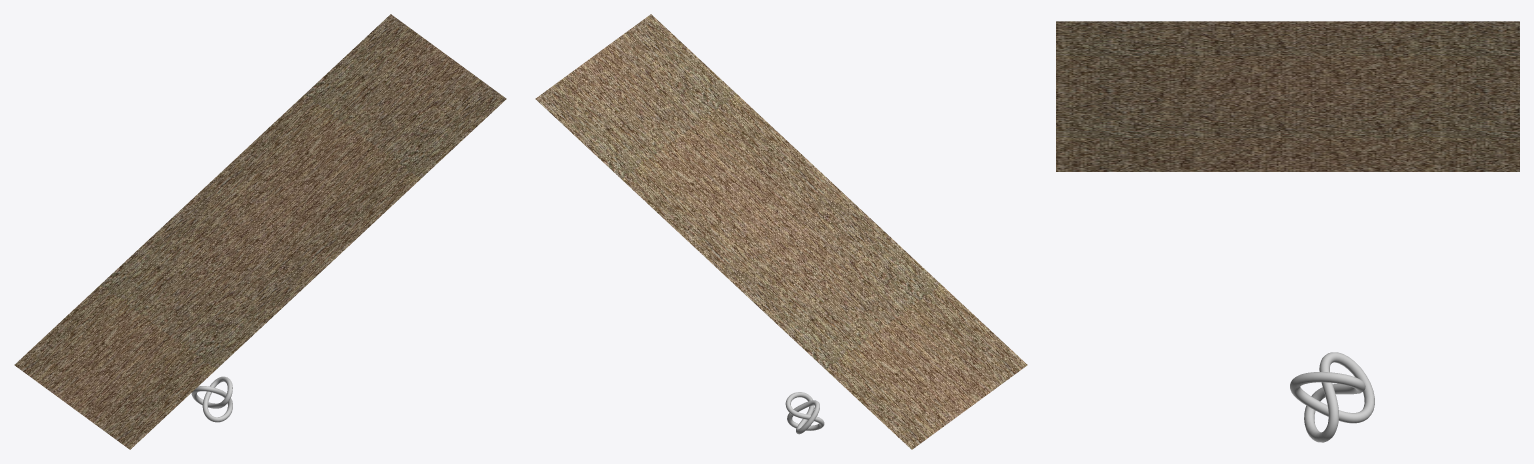
Rendered from justshadow.obj.
3 views of the same model, side by side, from view 1: azimuth 30°, elevation 25°; view 2: azimuth 150°, elevation 25°; view 3: azimuth 270°, elevation 25° (orthographic). The views are drawn at different scales.
Visible parts, largest first — view 1: Plane, TorusKnot; view 2: Plane, TorusKnot; view 3: Plane, TorusKnot.
Boxes of the visible parts, bbox=[...] form: Plane: bbox=[14, 14, 506, 449]; TorusKnot: bbox=[191, 376, 232, 422]; Plane: bbox=[535, 14, 1027, 449]; TorusKnot: bbox=[785, 392, 824, 434]; Plane: bbox=[1056, 21, 1519, 171]; TorusKnot: bbox=[1290, 352, 1374, 442].
Size of the model in its own units: 139 by 111 by 74.15.
